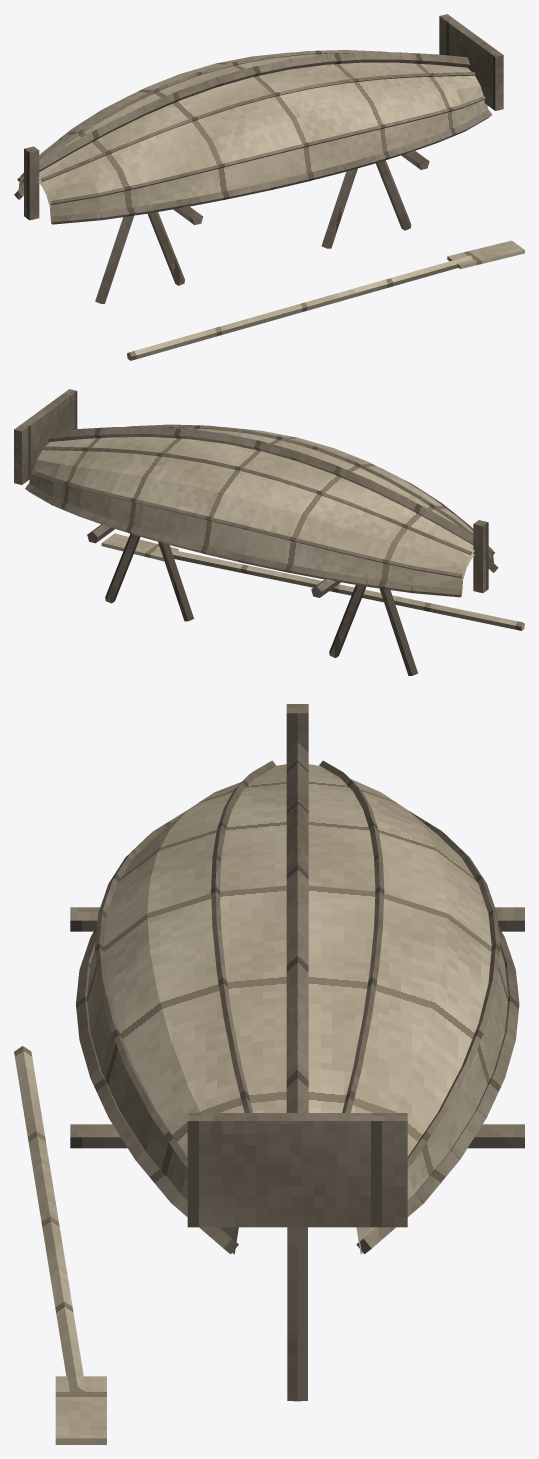
File: rowboat.obj
3 views of the same model, one above another, from view 1: azimuth 30°, elevation 25°; view 2: azimuth 150°, elevation 25°; view 3: azimuth 270°, elevation 25° (orthographic). The views are drawn at different scales.
Visible parts, largest first — view 1: rowboat; view 2: rowboat; view 3: rowboat.
Boxes of the visible parts, box(x1,y1,x2,y2) form: rowboat: box(14, 14, 524, 360); rowboat: box(14, 389, 524, 675); rowboat: box(14, 704, 524, 1444).
Bounding box in the file's own units: 2.77 × 1.18 × 1.39.
